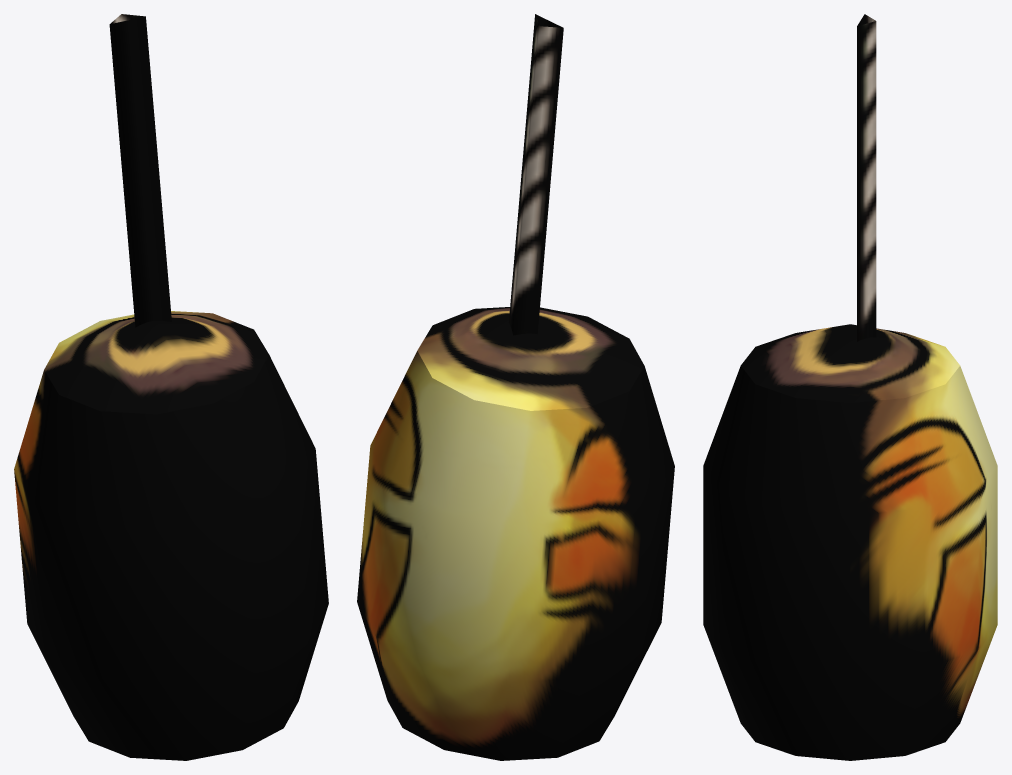
File: lampion2.FBX
3 renders of one model, left to right at view 1: azimuth 30°, elevation 25°; view 2: azimuth 150°, elevation 25°; view 3: azimuth 270°, elevation 25°, orthographic. The views are drawn at different scales.
Parts seen in each view (by area): view 1: zluty; view 2: zluty; view 3: zluty.
Part boxes in pixels (box(x1,y1,x2,y2)): zluty: box(14, 14, 328, 760); zluty: box(357, 14, 674, 760); zluty: box(703, 14, 997, 760).
Size of the model in its own units: 83.69 by 206 by 79.96.
